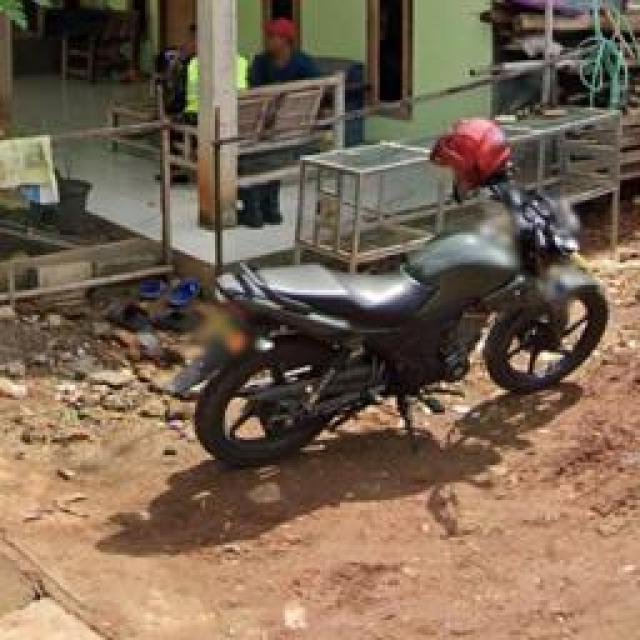motorcycle: (172, 118, 610, 468)
